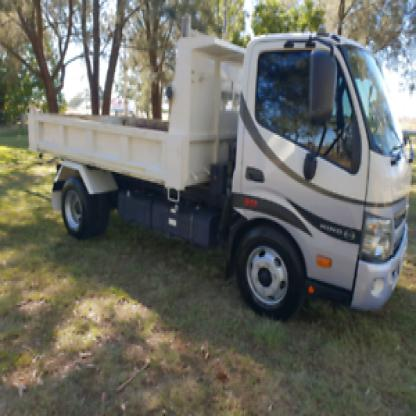dump_truck: (25, 9, 413, 324)
